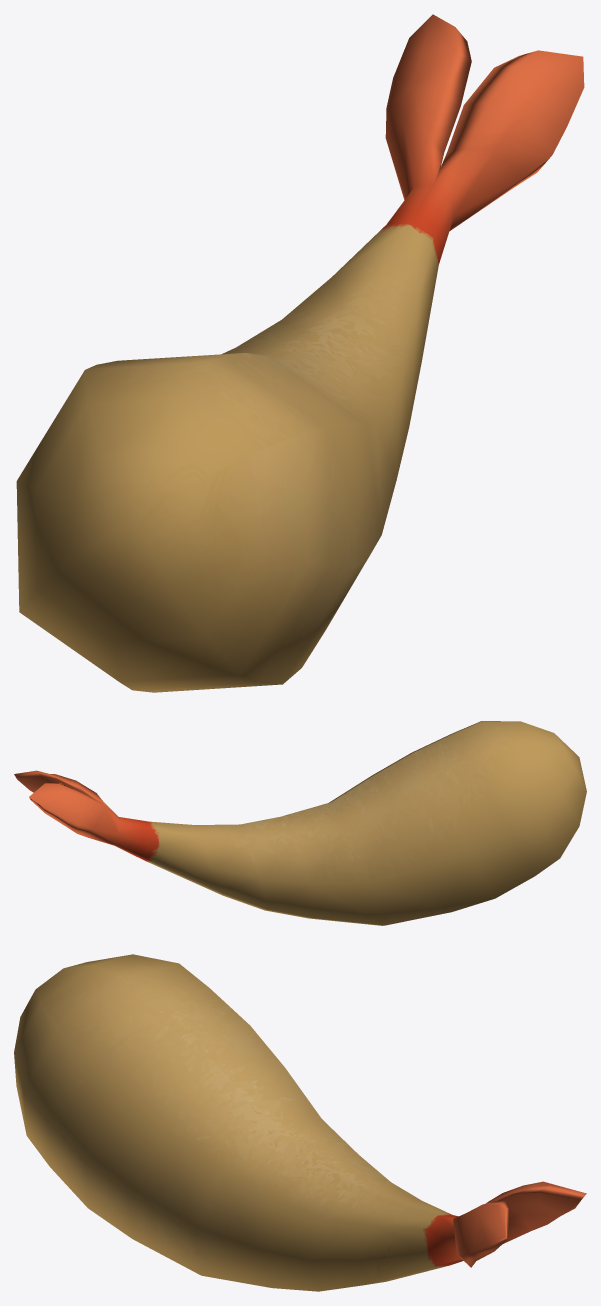
Rendered from ebi.fbx.
3 renders of one model, top to bottom at view 1: azimuth 30°, elevation 25°; view 2: azimuth 150°, elevation 25°; view 3: azimuth 270°, elevation 25°, orthographic. The views are drawn at different scales.
Visible parts, largest first — view 1: polySurface5; view 2: polySurface5; view 3: polySurface5.
Part boxes in pixels (x1,y1,x2,y2): polySurface5: [16, 14, 584, 692]; polySurface5: [14, 721, 586, 925]; polySurface5: [14, 954, 586, 1291].
Bounding box in the file's own units: 2.33 × 0.9784 × 2.03.
